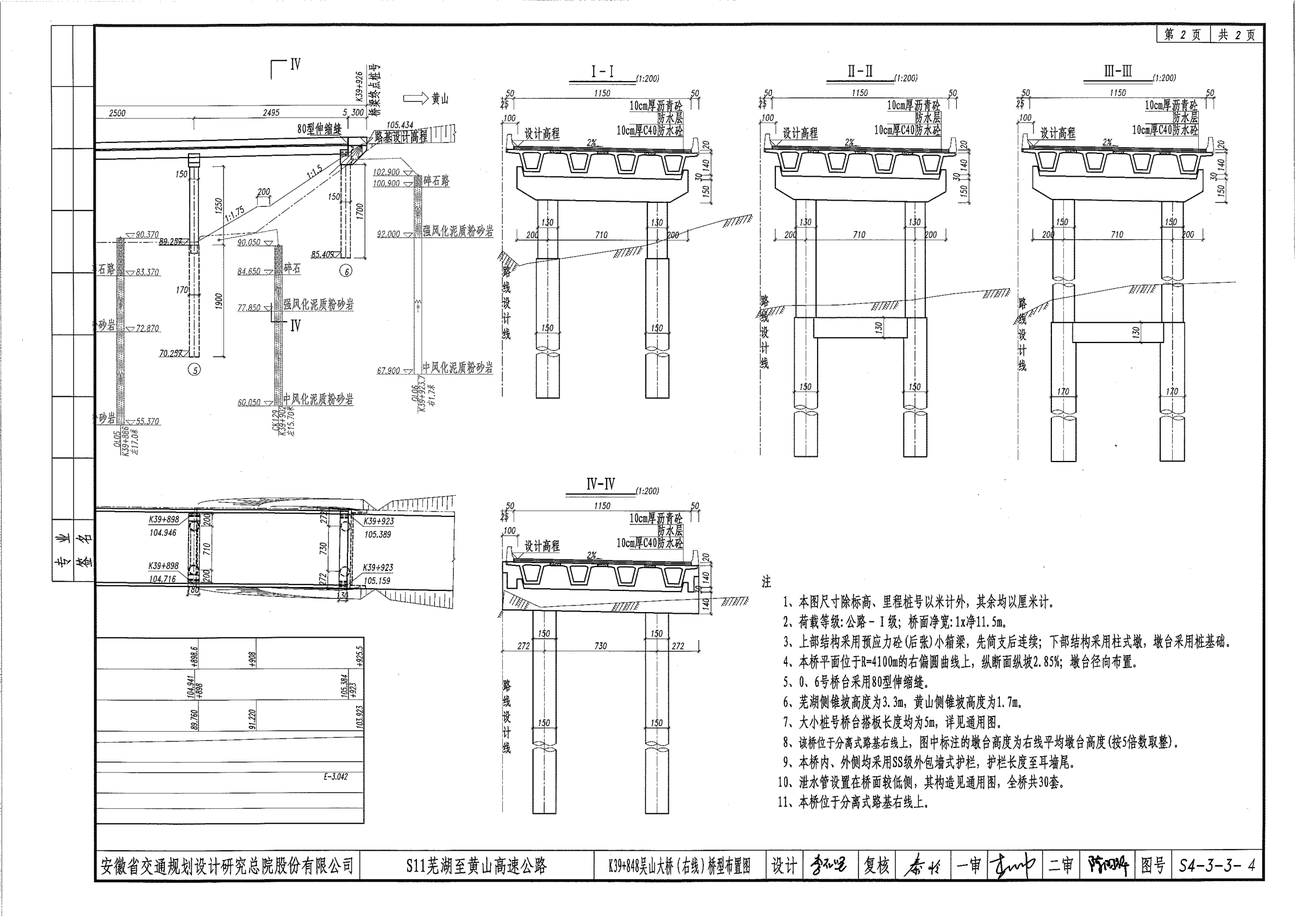A: (77, 51, 480, 385)
